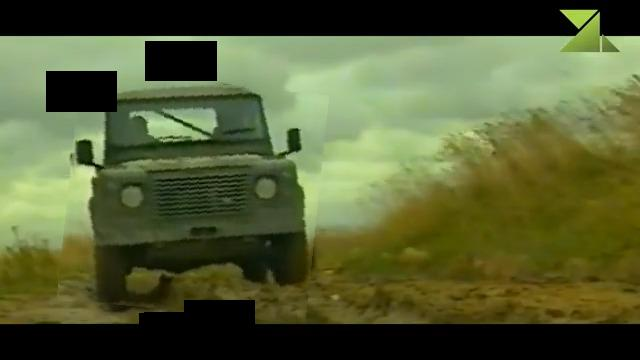MIL_HMMWV: (62, 76, 324, 318)
